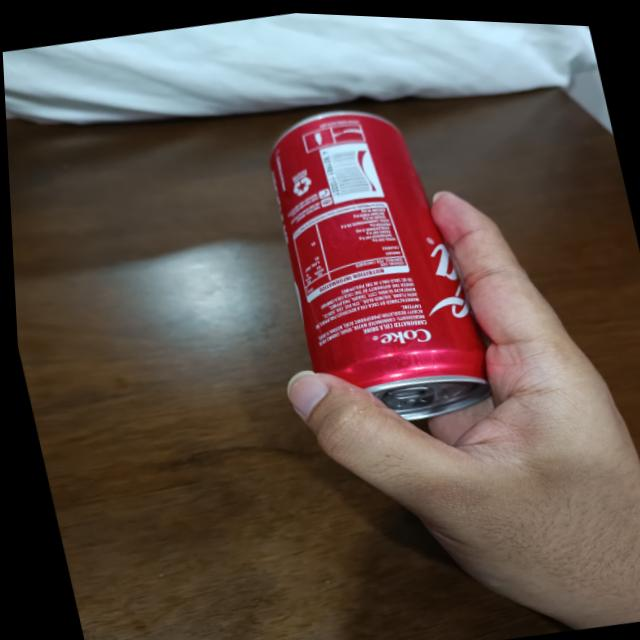coke: (251, 89, 497, 437)
